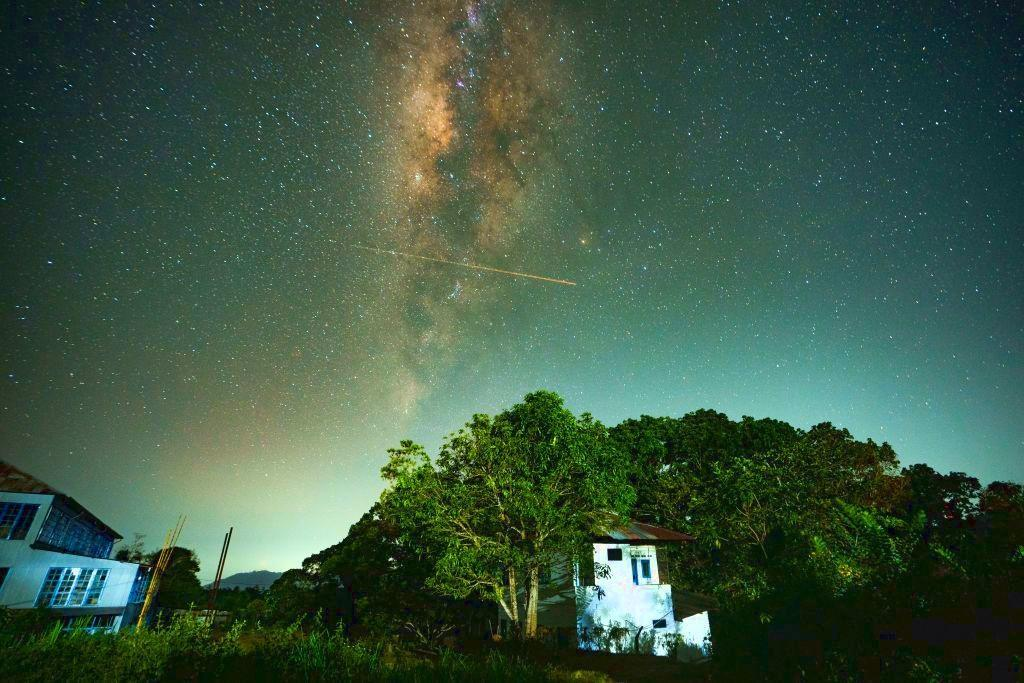meteorite: (449, 258, 589, 293)
